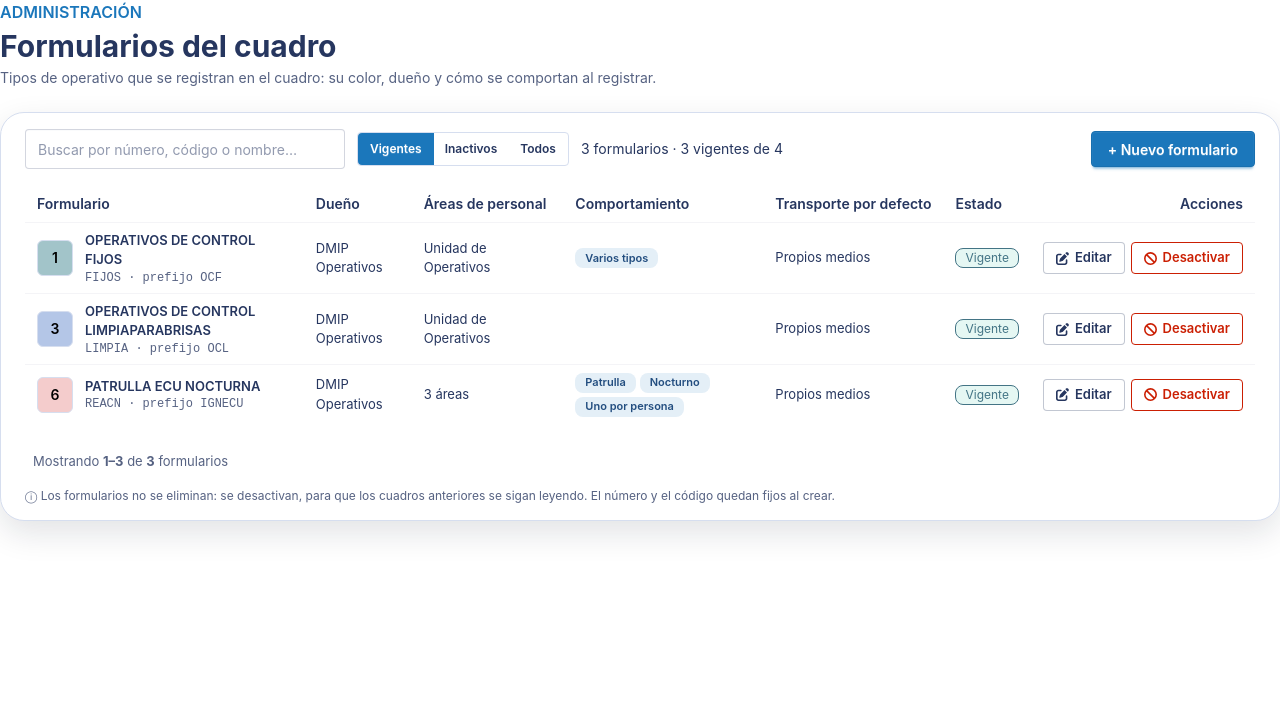
Test: desactivar y reactivar › desactivar pide confirmación con el texto acordado
Check: the table named "Formularios del cuadro" is shown, box [25,185,1255,424]
Click the button with aria-label "Desactivar 3. OPERATIVOS DE CONTROL LIMPIAPARABRISAS" at coordinates (1187, 329), box [1131,313,1243,345]
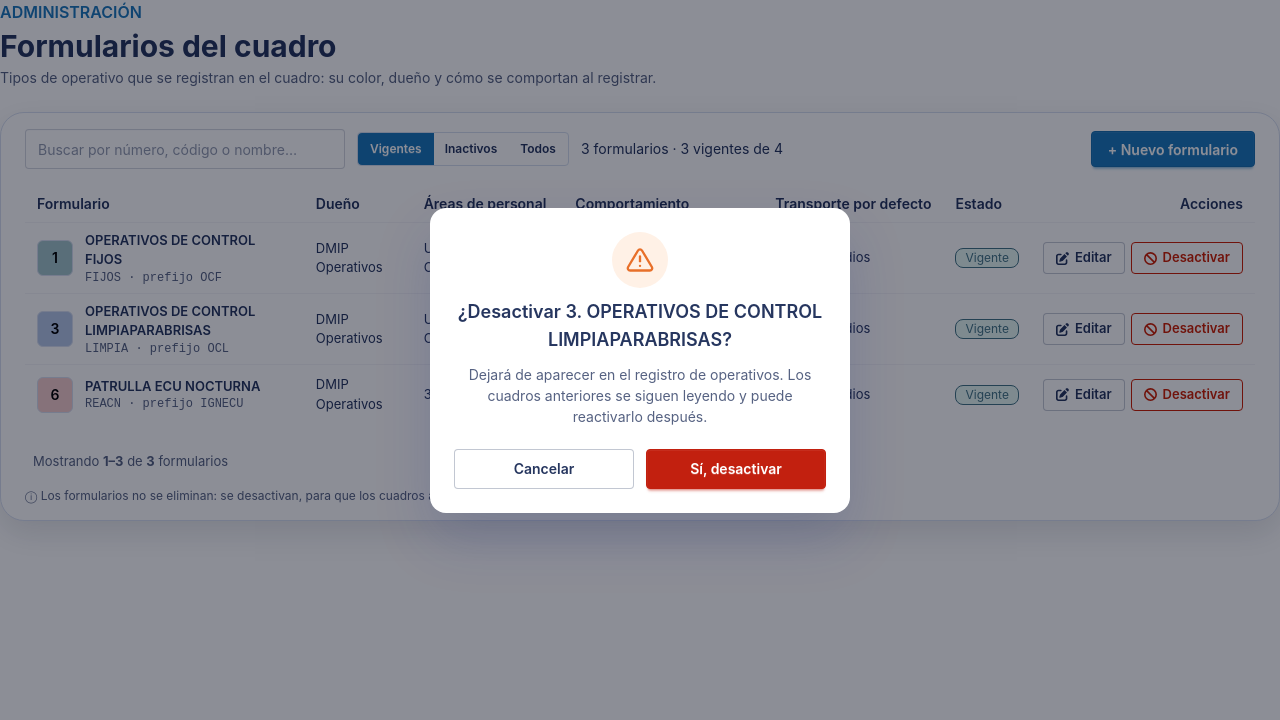
Check: the dialog shows "¿Desactivar 3. OPERATIVOS DE CONTROL LIMPIAPARABRISAS?", box [458,300,822,350]
Check: the dialog shows "Dejará de aparecer en el registro de operativos. Los cuadros anteriores se siguen leyendo y puede reactivarlo después.", box [469,366,811,424]
Click the button "Sí, desactivar" at coordinates (736, 468), box [646,448,826,488]
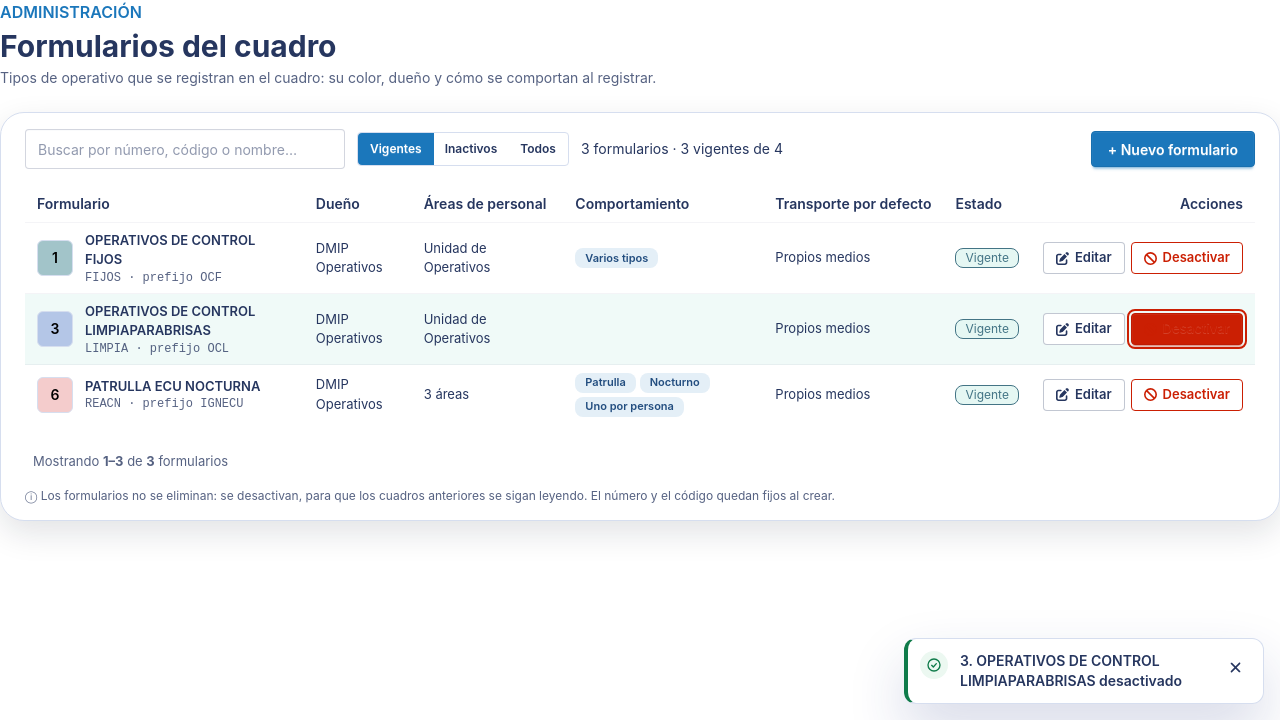
Check: the text "3. OPERATIVOS DE CONTROL LIMPIAPARABRISAS desactivado" is shown, box [960,651,1207,691]
